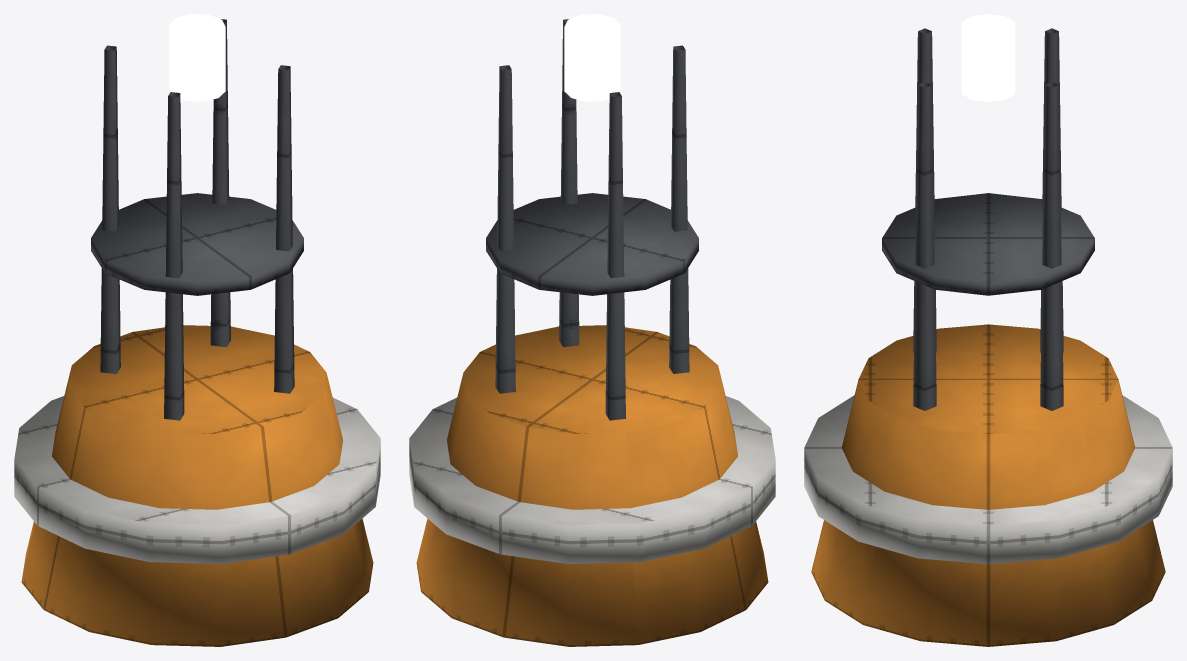
Rendered from buoy.gltf.
3 views of the same model, side by side, from view 1: azimuth 30°, elevation 25°; view 2: azimuth 150°, elevation 25°; view 3: azimuth 270°, elevation 25° (orthographic).
Parts seen in each view (by area): view 1: buoy_body; view 2: buoy_body; view 3: buoy_body.
Part boxes in pixels (box(x1,y1,x2,y2)): buoy_body: box(14, 14, 380, 646); buoy_body: box(409, 14, 775, 646); buoy_body: box(804, 14, 1172, 646).
Bounding box in the file's own units: 1.56 × 2.55 × 1.56.
Materials: 4 (3 with a texture image).
